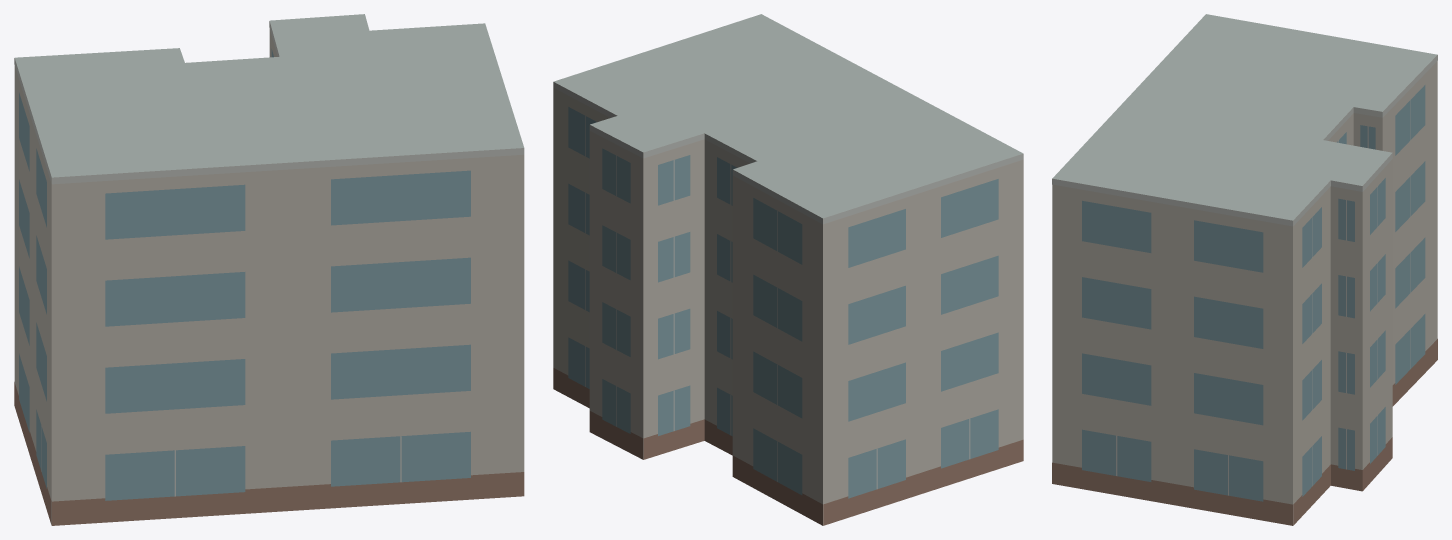
File: survey-upis-33008667.glb
3 views of the same model, side by side, from view 1: azimuth 30°, elevation 25°; view 2: azimuth 150°, elevation 25°; view 3: azimuth 270°, elevation 25° (orthographic). The views are drawn at different scales.
Parts seen in each view (by area): view 1: survey-upis-33008667.tmp; view 2: survey-upis-33008667.tmp; view 3: survey-upis-33008667.tmp.
Part boxes in pixels (x1,y1,x2,y2): survey-upis-33008667.tmp: (14, 14, 524, 525); survey-upis-33008667.tmp: (553, 14, 1023, 525); survey-upis-33008667.tmp: (1052, 14, 1437, 525).
Bounding box in the file's own units: 18.33 × 12.62 × 14.46.
